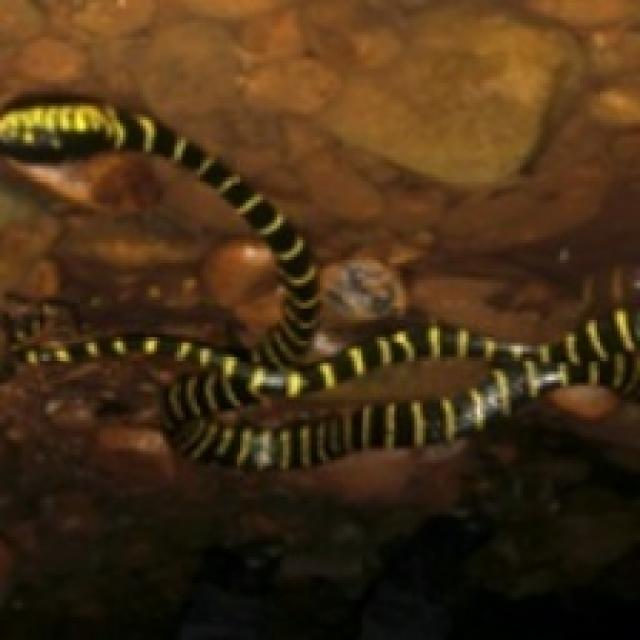mangrove cat snake: (0, 97, 637, 469)
